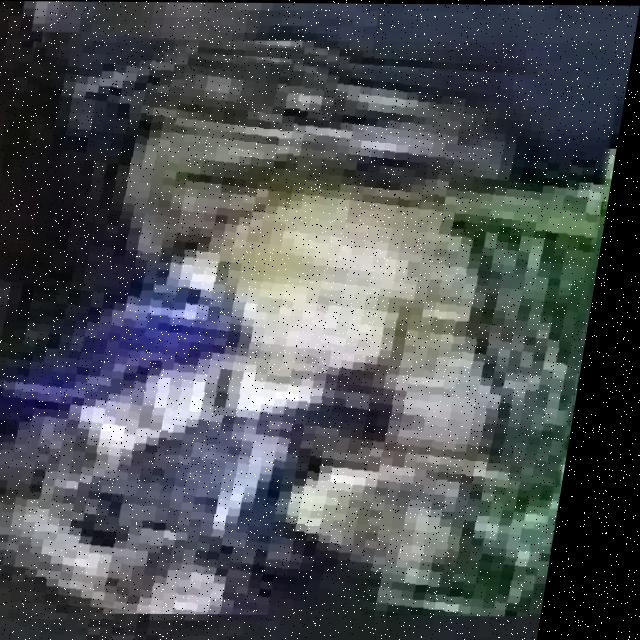litter: (0, 39, 635, 615)
